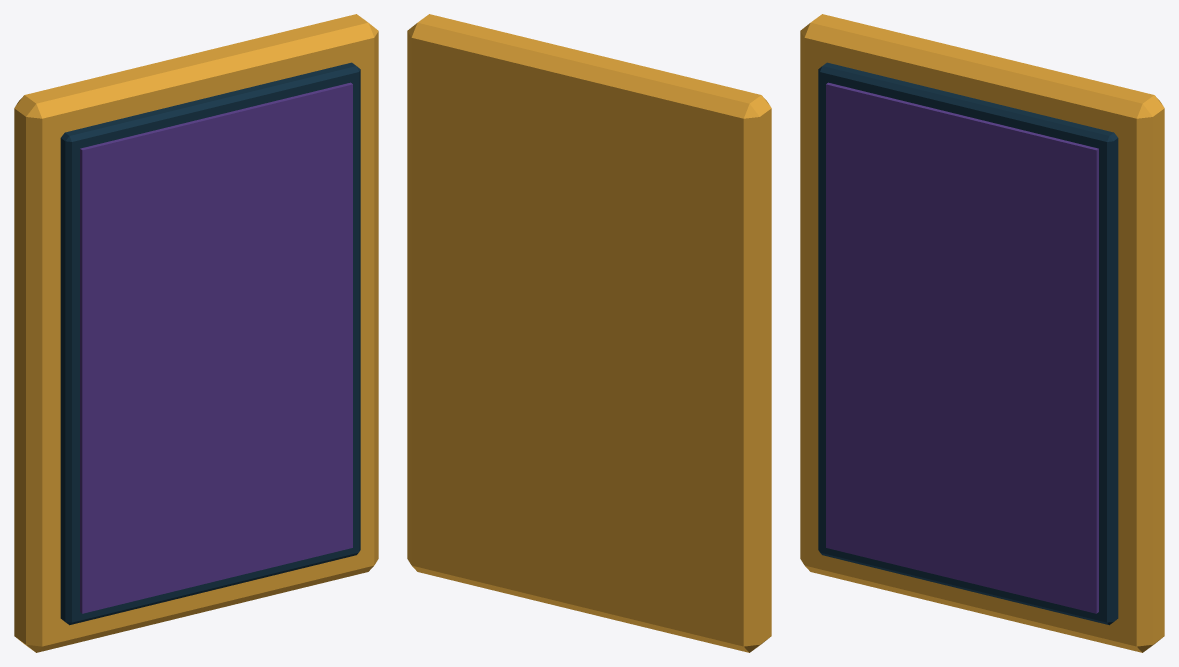
Rendered from poster_frame_b.glb.
The picture shows the model from 3 angles, left to right: view 1: azimuth 30°, elevation 25°; view 2: azimuth 150°, elevation 25°; view 3: azimuth 330°, elevation 25°; orthographic projection.
Parts seen in each view (by area): view 1: poster_frame_b; view 2: poster_frame_b; view 3: poster_frame_b.
Part boxes in pixels (x1=…): poster_frame_b: x1=14, y1=14, x2=378, y2=652; poster_frame_b: x1=407, y1=14, x2=771, y2=652; poster_frame_b: x1=800, y1=14, x2=1164, y2=652.
Size of the model in its own units: 0.86 by 1.28 by 0.14.
